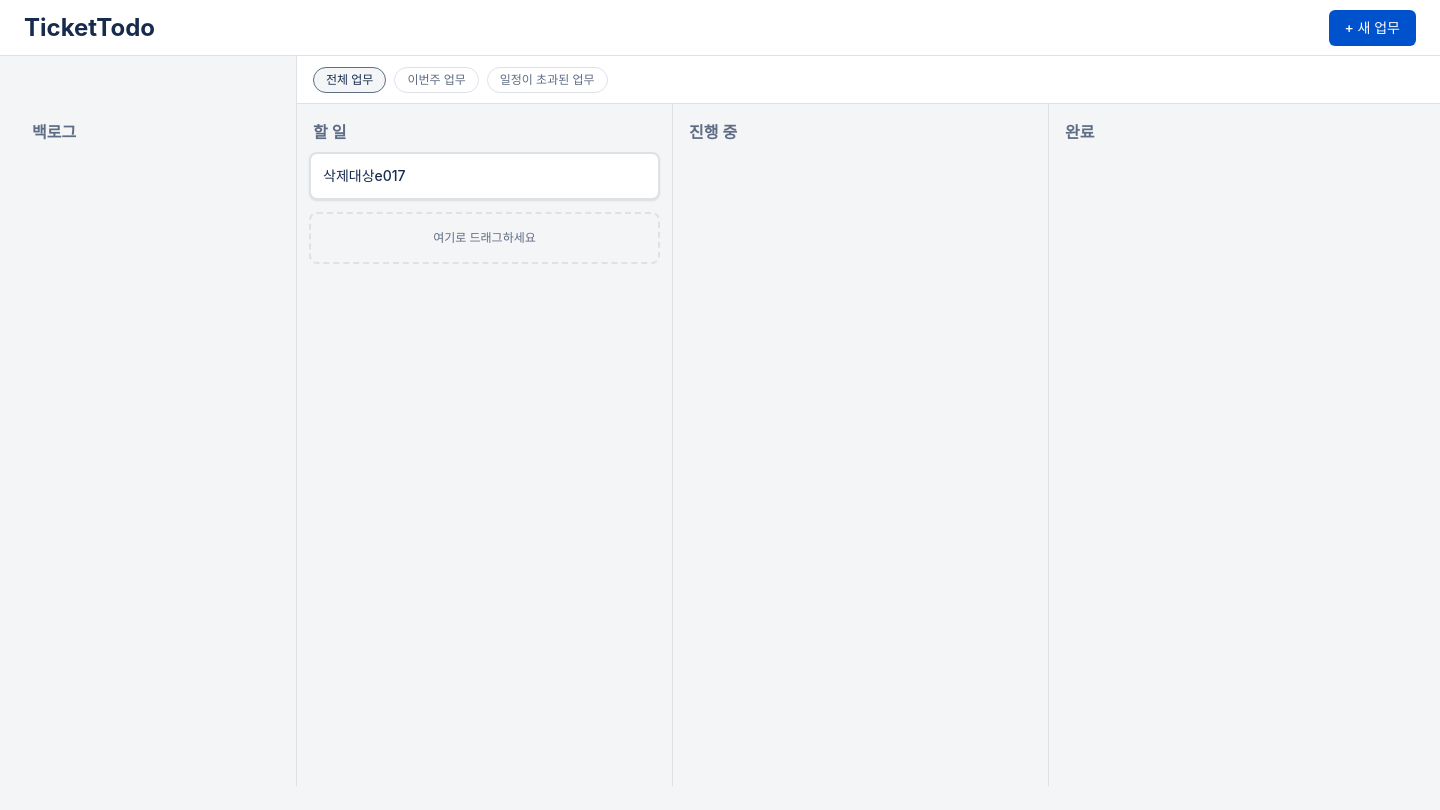
Scenario: 시나리오 E — 티켓 삭제 › TC-INT-017: 카드 클릭 → DetailModal 오픈, 삭제 버튼 존재
Expected: the text "삭제대상e017" is shown, [323, 167, 406, 184]
Click the list item "삭제대상e017" at (364,176), box [309, 152, 660, 200]
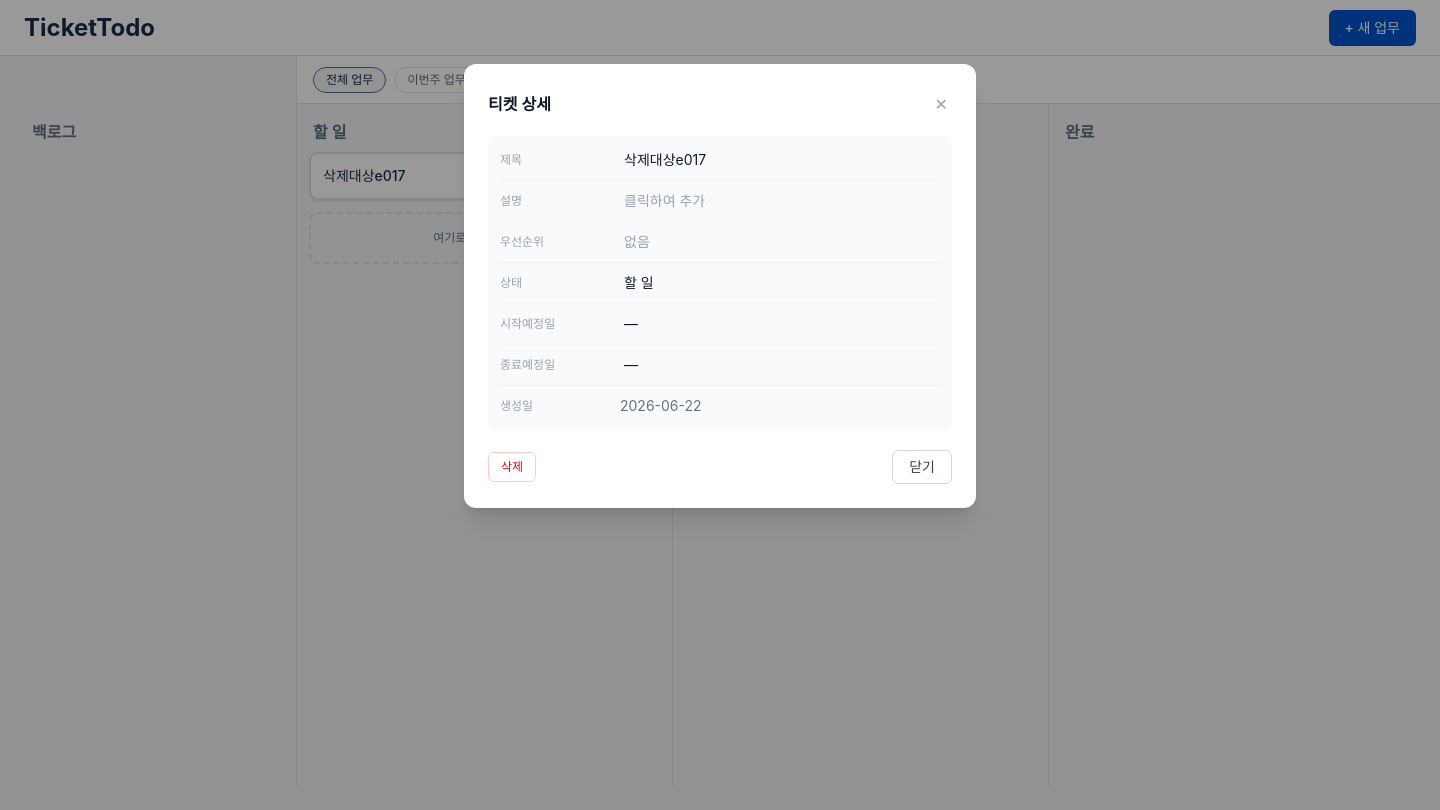
Expected: the dialog is shown
Expected: the button "삭제" is shown, [488, 452, 536, 482]
